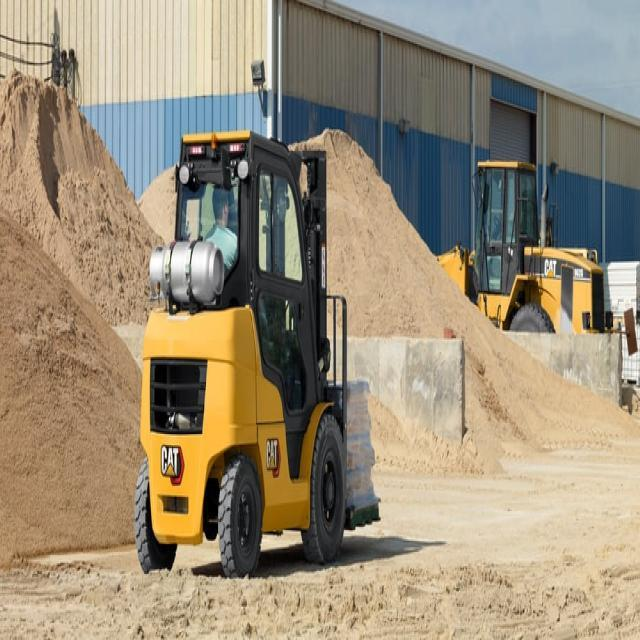driver: (206, 180, 240, 268)
forklift: (124, 119, 360, 582)
